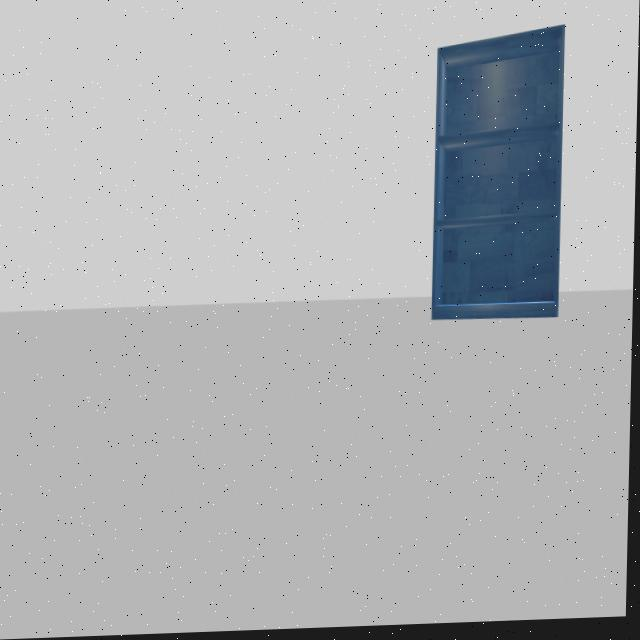shelf: (422, 10, 580, 347)
